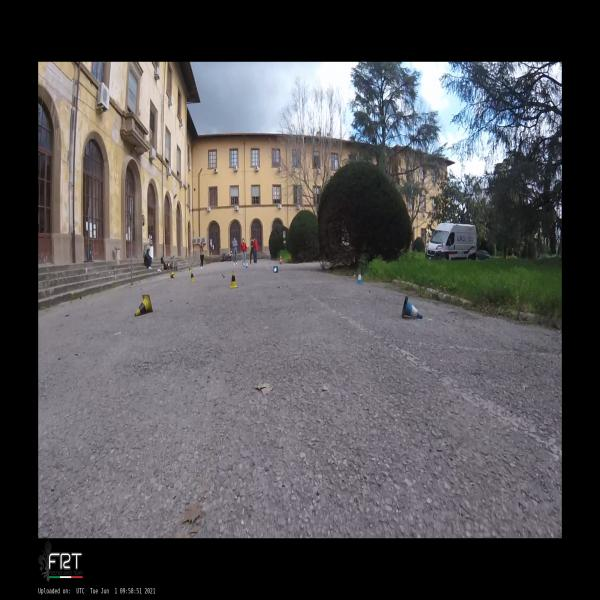blue_cone: (402, 297, 422, 318), (356, 271, 363, 284), (245, 261, 249, 268), (274, 266, 278, 272), (243, 262, 245, 267)
large_orange_cone: (279, 256, 282, 264)
yellow_cone: (134, 295, 153, 316), (230, 271, 238, 288), (190, 270, 195, 282), (170, 272, 175, 278), (189, 266, 191, 272)
